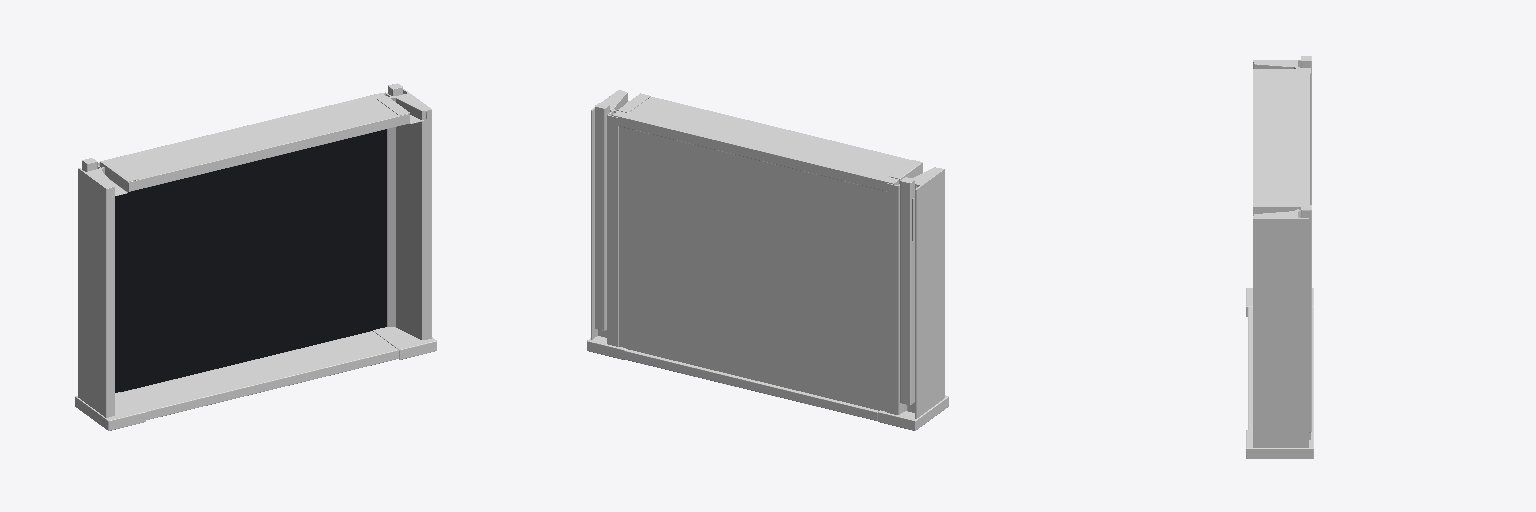
The picture shows the model from 3 angles: view 1: azimuth 30°, elevation 25°; view 2: azimuth 150°, elevation 25°; view 3: azimuth 270°, elevation 25°; orthographic projection.
Visible parts, largest first — view 1: SM_Kitchen_08_Sink_Drawer_02; view 2: SM_Kitchen_08_Sink_Drawer_02; view 3: SM_Kitchen_08_Sink_Drawer_02.
Boxes of the visible parts, box(x1,y1,x2,y2) form: SM_Kitchen_08_Sink_Drawer_02: box(75, 83, 436, 430); SM_Kitchen_08_Sink_Drawer_02: box(587, 90, 948, 430); SM_Kitchen_08_Sink_Drawer_02: box(1246, 56, 1313, 458).
Bounding box in the file's own units: 0.5619 × 0.401 × 0.101.
2 materials, 2 textured.